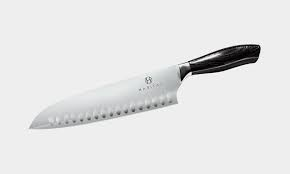knife: (28, 43, 262, 130)
